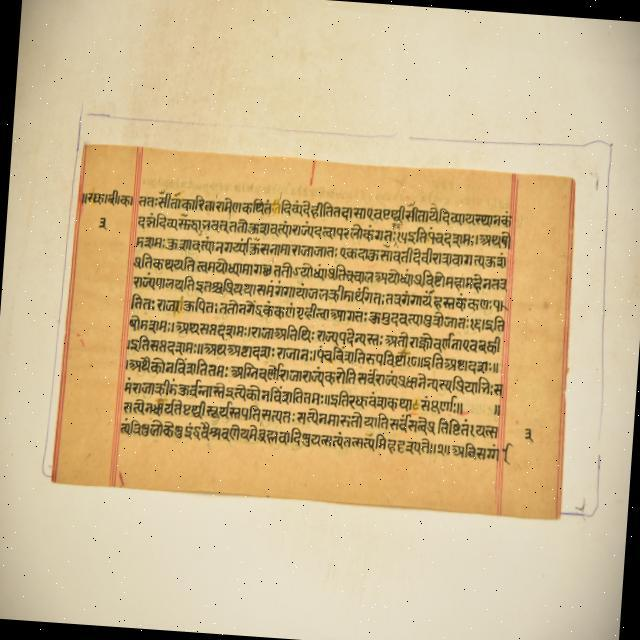text_paragraph: (46, 141, 578, 524)
